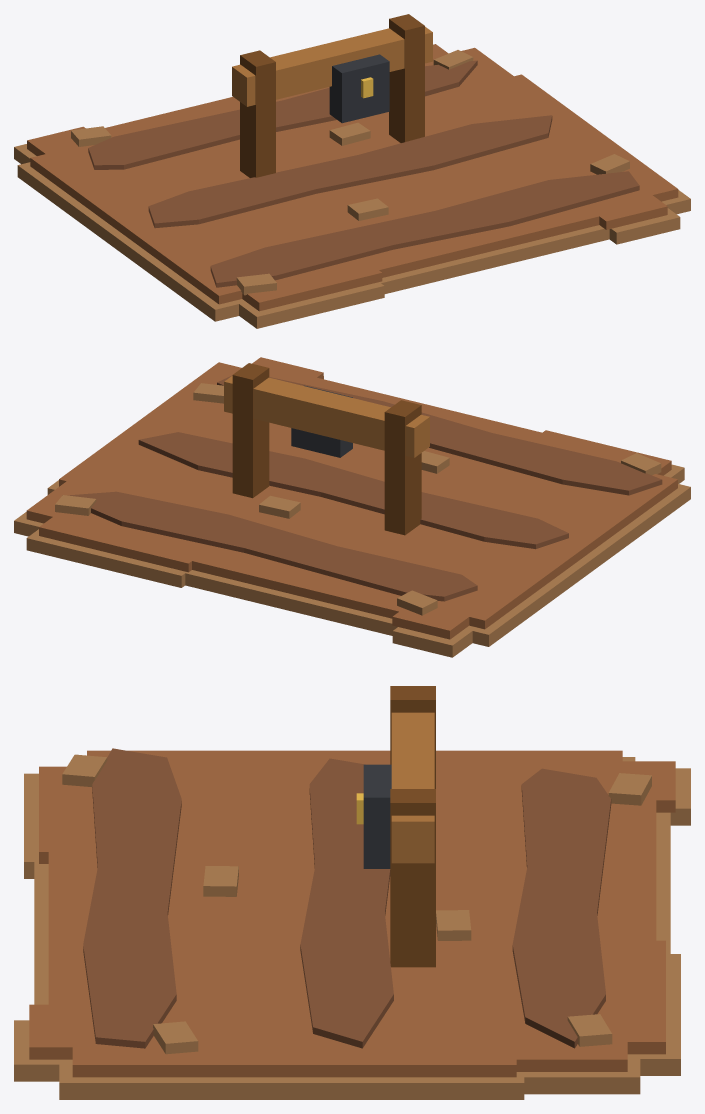
File: plot-locked.glb
The picture shows the model from 3 angles, top to bottom: view 1: azimuth 30°, elevation 25°; view 2: azimuth 150°, elevation 25°; view 3: azimuth 270°, elevation 25°; orthographic projection. The views are drawn at different scales.
Parts seen in each view (by area): view 1: Earth clod; view 2: Earth clod; view 3: Earth clod.
Part boxes in pixels (box(x1,y1,x2,y2)): Earth clod: box(14, 14, 690, 328); Earth clod: box(14, 357, 690, 657); Earth clod: box(14, 686, 690, 1099).
Bounding box in the file's own units: 1.77 × 0.49 × 1.55.
